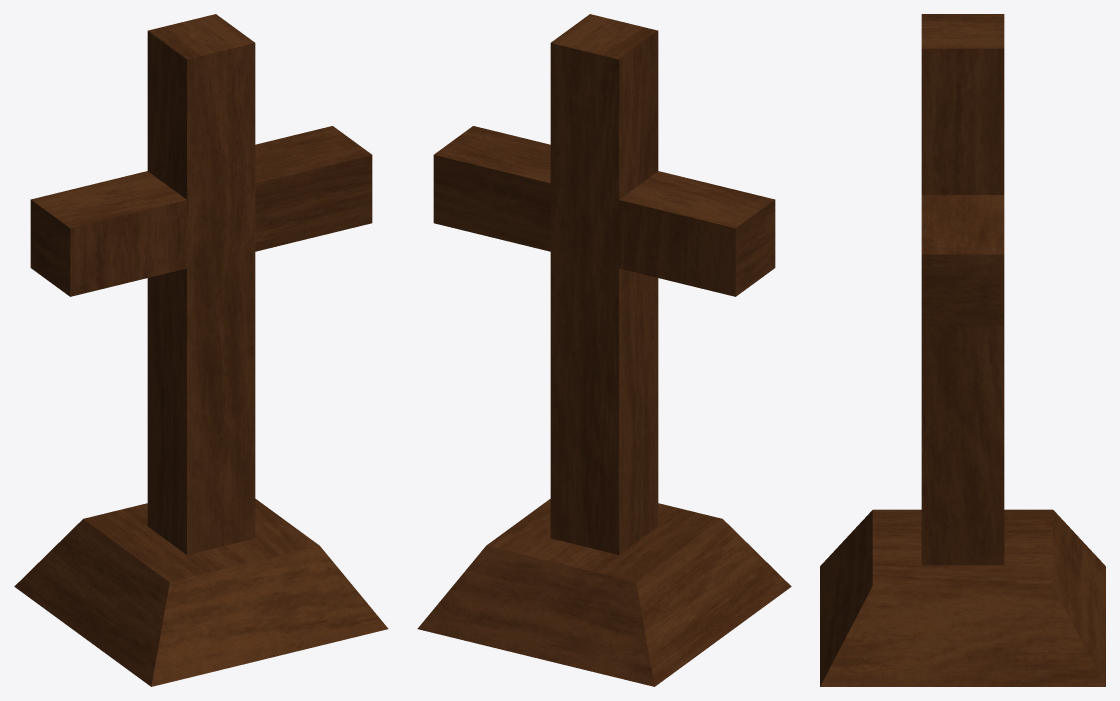
The model's file is Cross.fbx.
3 renders of one model, left to right at view 1: azimuth 30°, elevation 25°; view 2: azimuth 150°, elevation 25°; view 3: azimuth 270°, elevation 25°, orthographic. The views are drawn at different scales.
Visible parts, largest first — view 1: Cross; view 2: Cross; view 3: Cross.
Boxes of the visible parts, x1,y1,x2,y2 form: Cross: (14, 14, 388, 686); Cross: (417, 14, 791, 686); Cross: (820, 14, 1105, 686).
Bounding box in the file's own units: 41.98 × 75.86 × 33.01.
